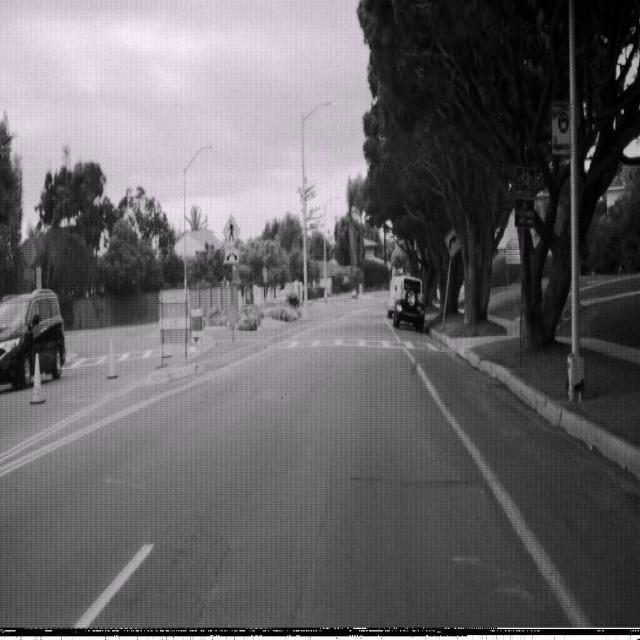pedestrianCrossing: (221, 211, 241, 249)
